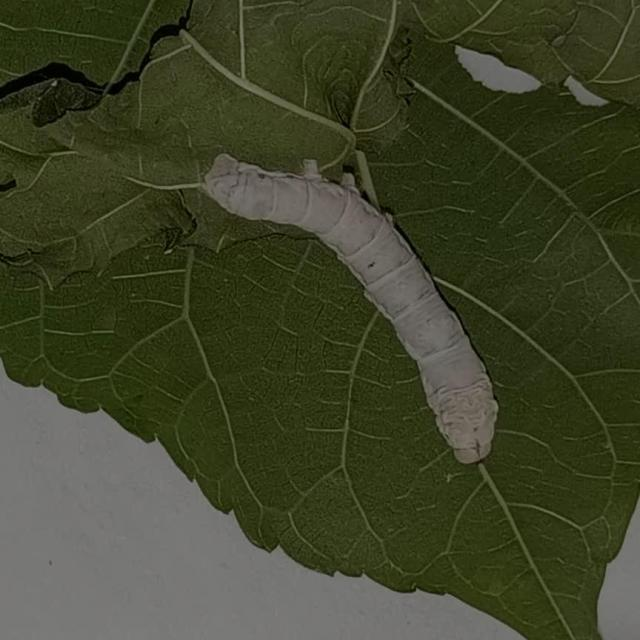Healthy: (192, 147, 512, 473)
